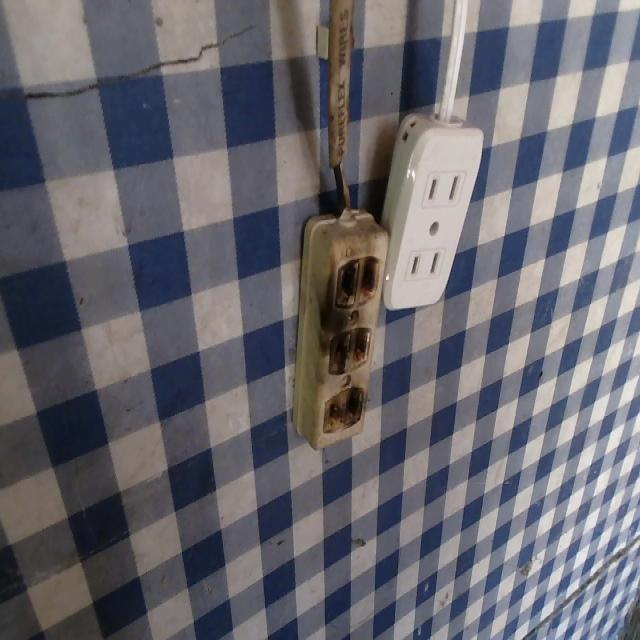-: (333, 247, 380, 314), (326, 322, 373, 382), (321, 389, 370, 442)
